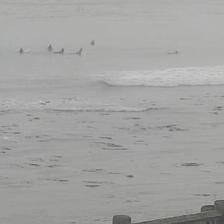surfer: (56, 48, 65, 54), (167, 50, 179, 54), (77, 48, 83, 55), (48, 44, 53, 51), (19, 48, 24, 54), (90, 40, 95, 46)
